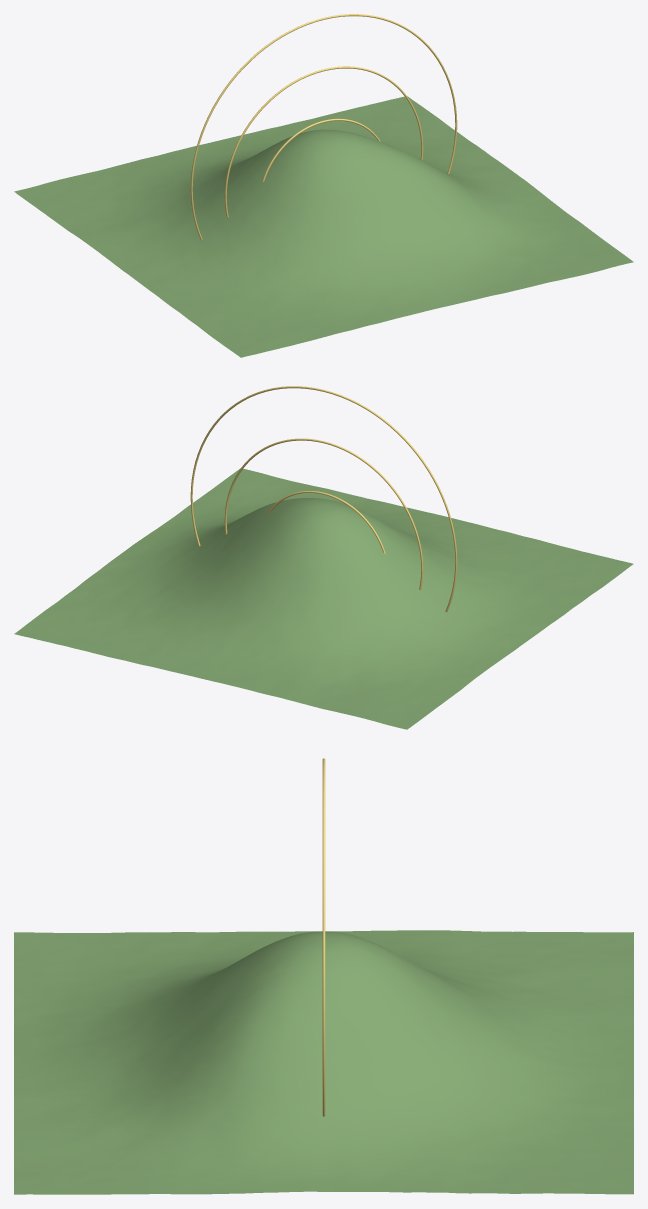
File: contours.glb
3 renders of one model, top to bottom at view 1: azimuth 30°, elevation 25°; view 2: azimuth 150°, elevation 25°; view 3: azimuth 270°, elevation 25°, orthographic. The views are drawn at different scales.
Parts seen in each view (by area): view 1: Contour_Hill, Contour_3, Contour_2; view 2: Contour_Hill, Contour_3, Contour_2; view 3: Contour_Hill, Contour_3.
Boxes of the visible parts, x1,y1,x2,y2 form: Contour_Hill: (14,96,633,357); Contour_3: (190,14,457,240); Contour_2: (224,66,423,218); Contour_Hill: (14,468,633,729); Contour_3: (190,386,457,612); Contour_2: (224,438,423,590); Contour_Hill: (14,930,633,1194); Contour_3: (322,758,325,1116).
Size of the model in its own units: 5.2 by 3.52 by 5.2.
